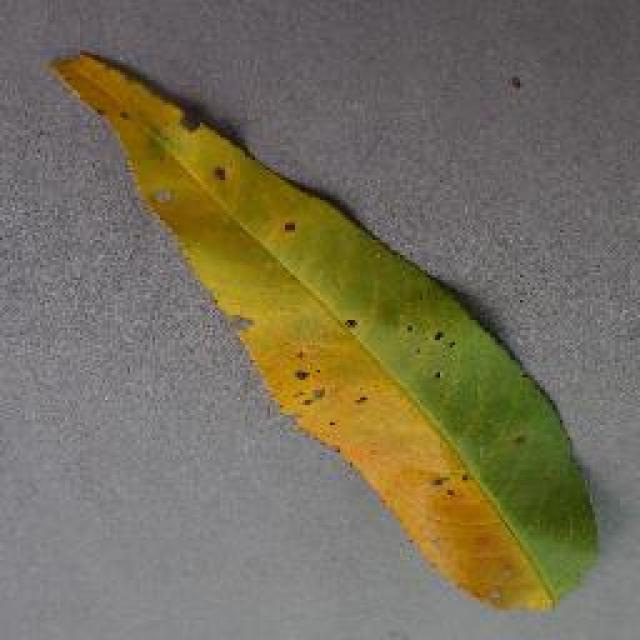Bacterial_spot: (45, 44, 588, 618)
